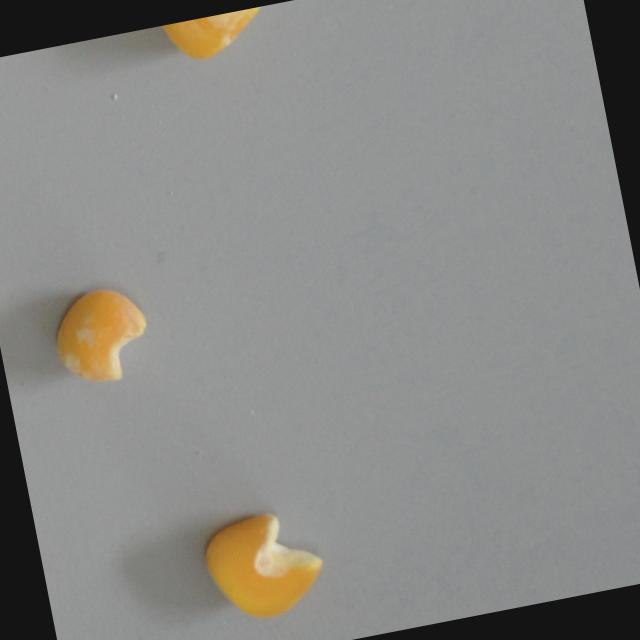no_canjicado: (196, 504, 331, 629)
pelicula: (46, 280, 156, 391), (153, 5, 270, 70)
